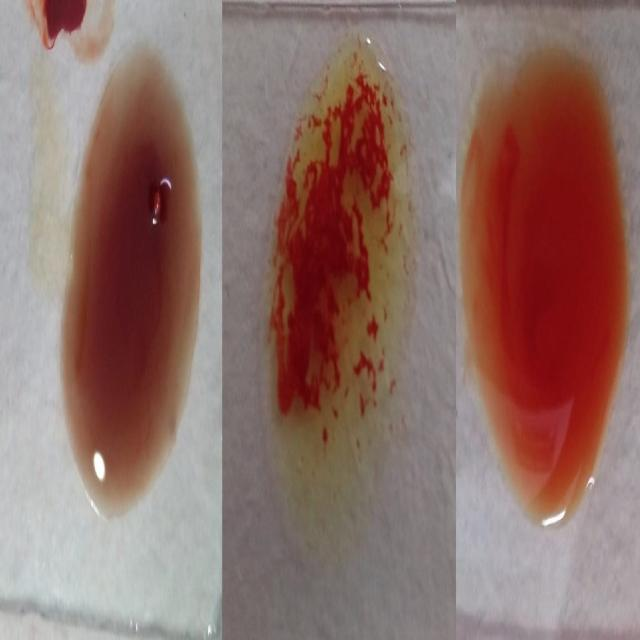B: (261, 52, 408, 494)
